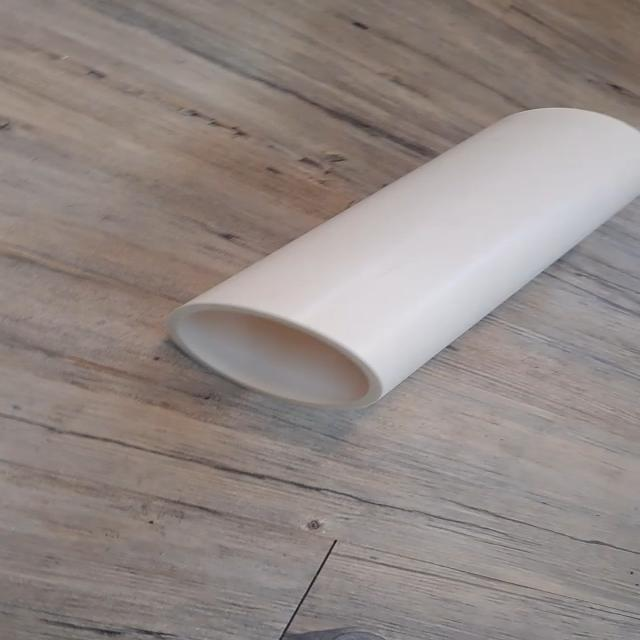CORAL: (154, 98, 640, 418)
